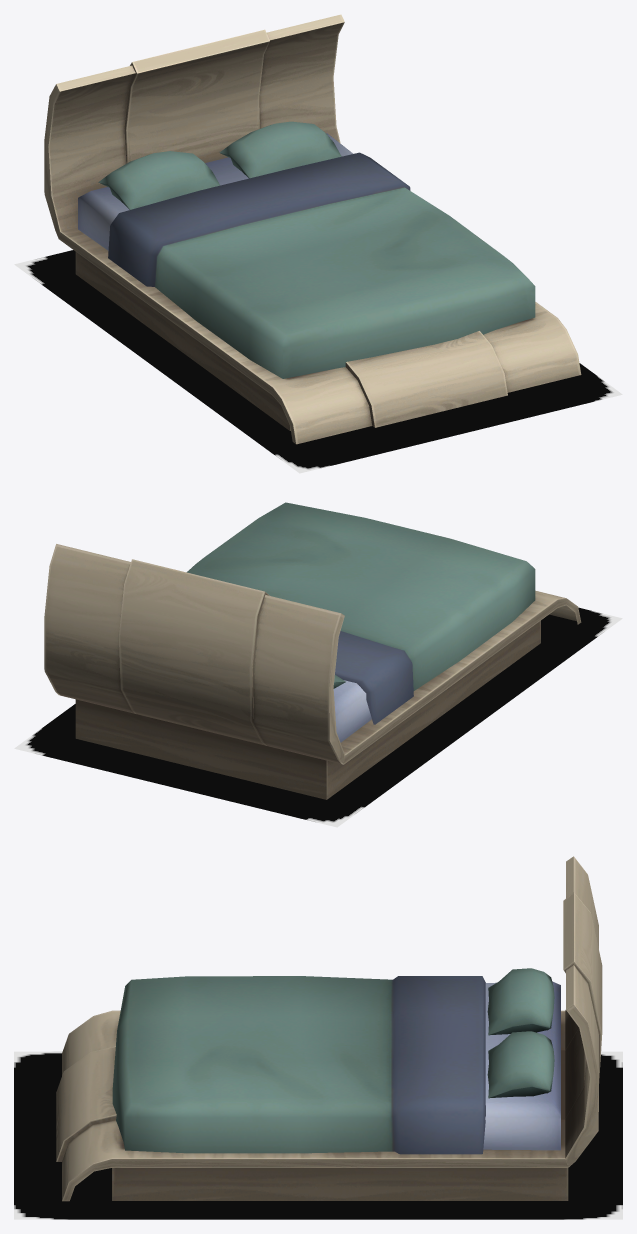
File: jj_ty_chuang01.FBX
3 renders of one model, top to bottom at view 1: azimuth 30°, elevation 25°; view 2: azimuth 150°, elevation 25°; view 3: azimuth 270°, elevation 25°, orthographic. The views are drawn at different scales.
Parts seen in each view (by area): view 1: jj_ty_chuang01, shadow; view 2: jj_ty_chuang01, shadow; view 3: jj_ty_chuang01, shadow.
Part boxes in pixels (x1,y1,x2,y2): jj_ty_chuang01: (44,14,581,444); shadow: (14,250,622,473); jj_ty_chuang01: (44,502,581,799); shadow: (14,607,622,827); jj_ty_chuang01: (56,856,602,1201); shadow: (14,1051,622,1219).
Bounding box in the file's own units: 197 × 115 × 301.
